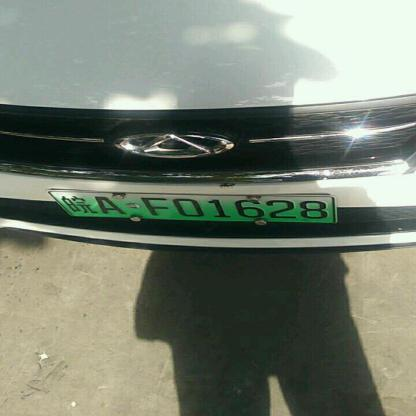lp: (50, 191, 72, 222)
